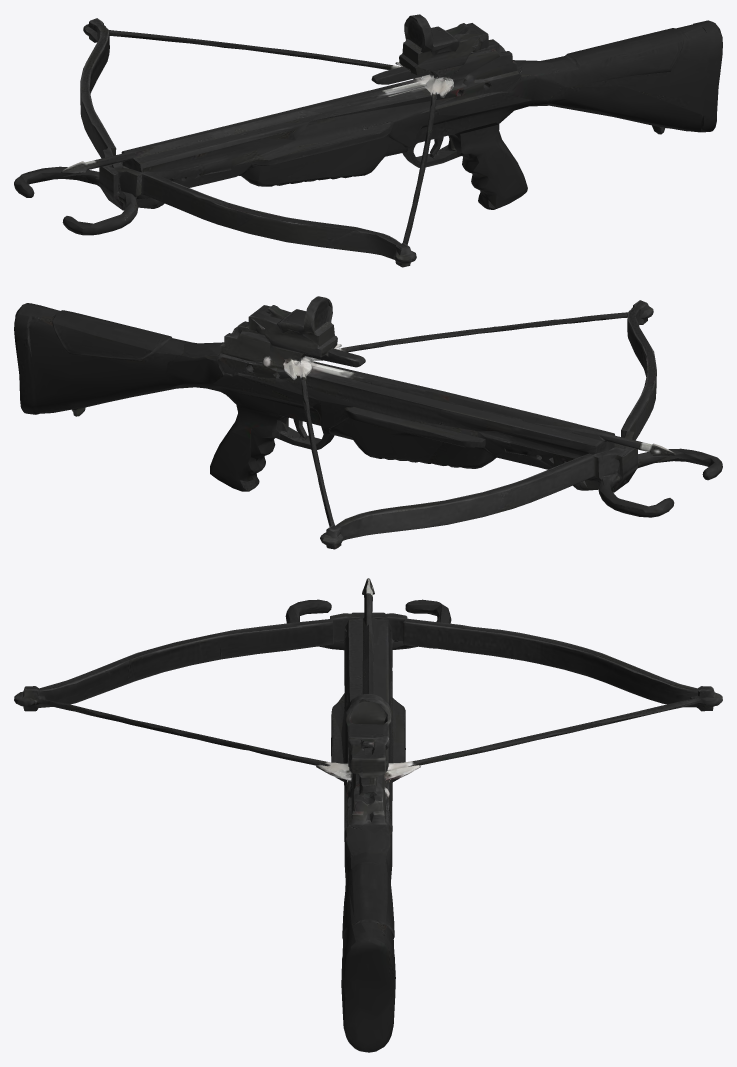
The model's file is w-crossbow.glb.
The picture shows the model from 3 angles, top to bottom: view 1: azimuth 30°, elevation 25°; view 2: azimuth 150°, elevation 25°; view 3: azimuth 270°, elevation 25°; orthographic projection. The views are drawn at different scales.
Bounding box in the file's own units: 1.9 × 0.5539 × 1.57.
1 material, 1 textured.
